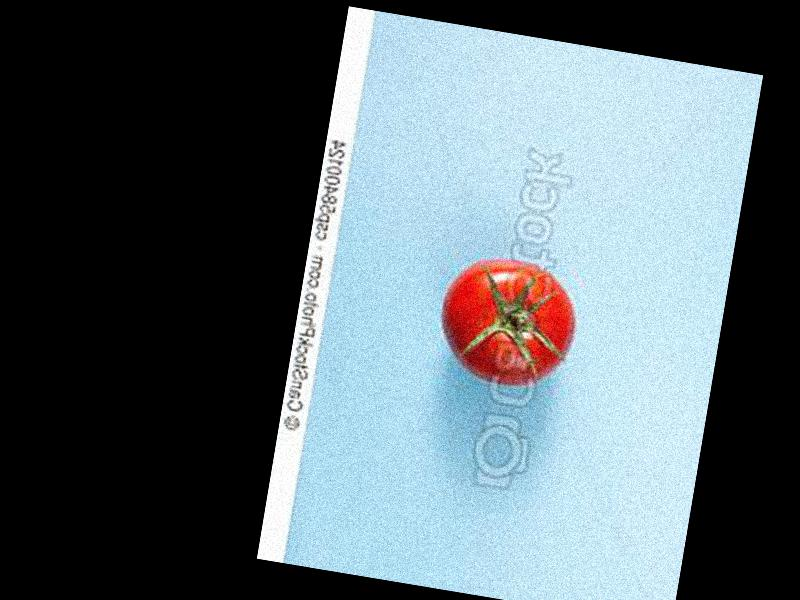Tomato: (429, 251, 583, 391)
